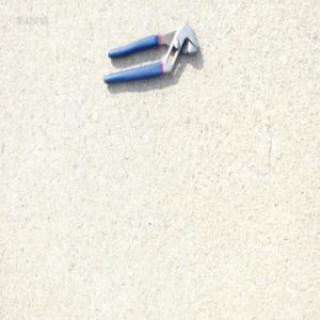Pliertrack_idkeyframe: (101, 20, 199, 84)
